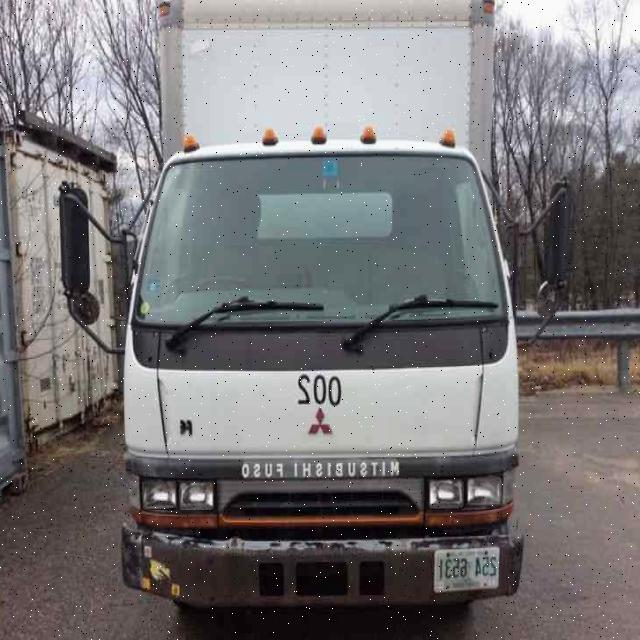truck: (61, 0, 575, 603)
